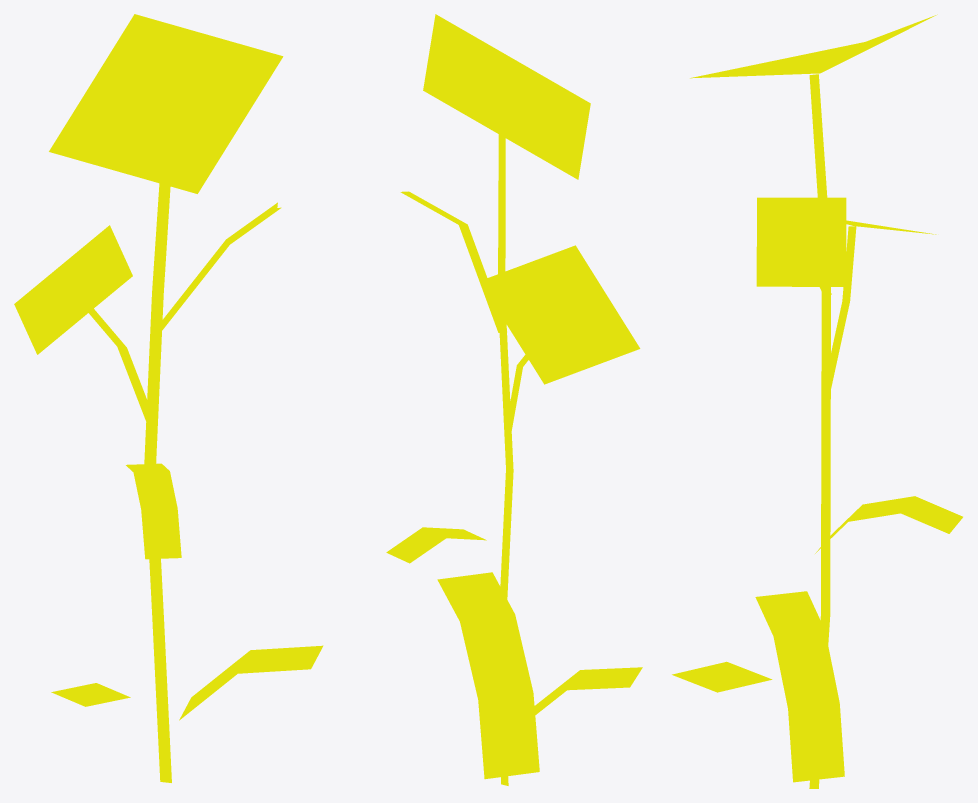
The model's file is Foliage_Flowers_White_Flower_WhiteLarge_High.glb.
The picture shows the model from 3 angles, left to right: view 1: azimuth 30°, elevation 25°; view 2: azimuth 150°, elevation 25°; view 3: azimuth 270°, elevation 25°; orthographic projection. The views are drawn at different scales.
Visible parts, largest first — view 1: WhiteFlower1.High; view 2: WhiteFlower1.High; view 3: WhiteFlower1.High.
Part boxes in pixels (bbox=[...]): WhiteFlower1.High: bbox=[14, 14, 323, 782]; WhiteFlower1.High: bbox=[386, 14, 642, 785]; WhiteFlower1.High: bbox=[672, 14, 962, 788].
Bounding box in the file's own units: 0.0836 × 0.2166 × 0.0729.
1 material, 1 textured.
